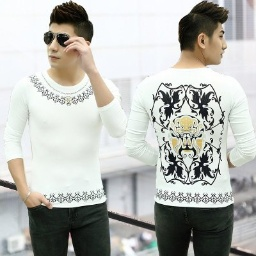face: (42, 1, 94, 70), (180, 1, 228, 68)
